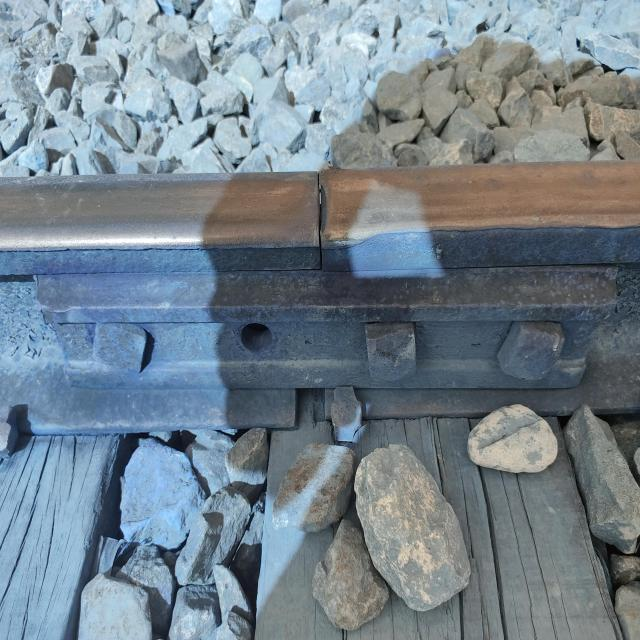Defective Joint: (30, 284, 619, 406)
